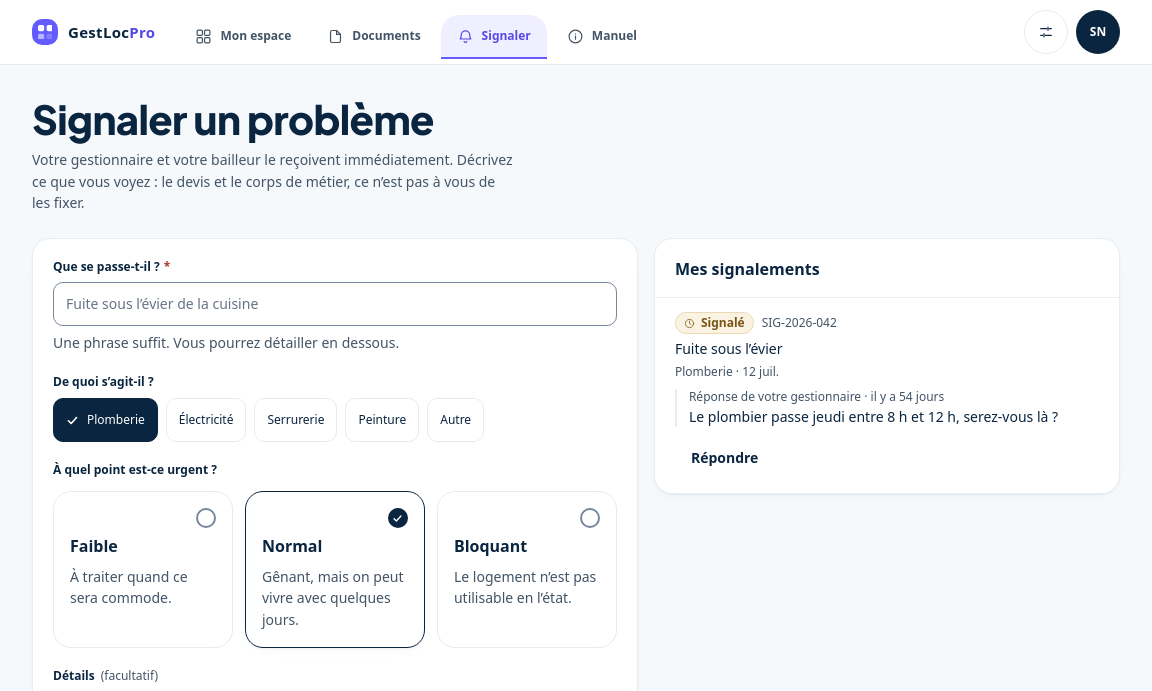
le locataire répond depuis son écran › relit sa propre phrase dans le fil, sans attendre un rechargement
Click the button "Répondre" at (725, 457), box [675, 435, 774, 479]
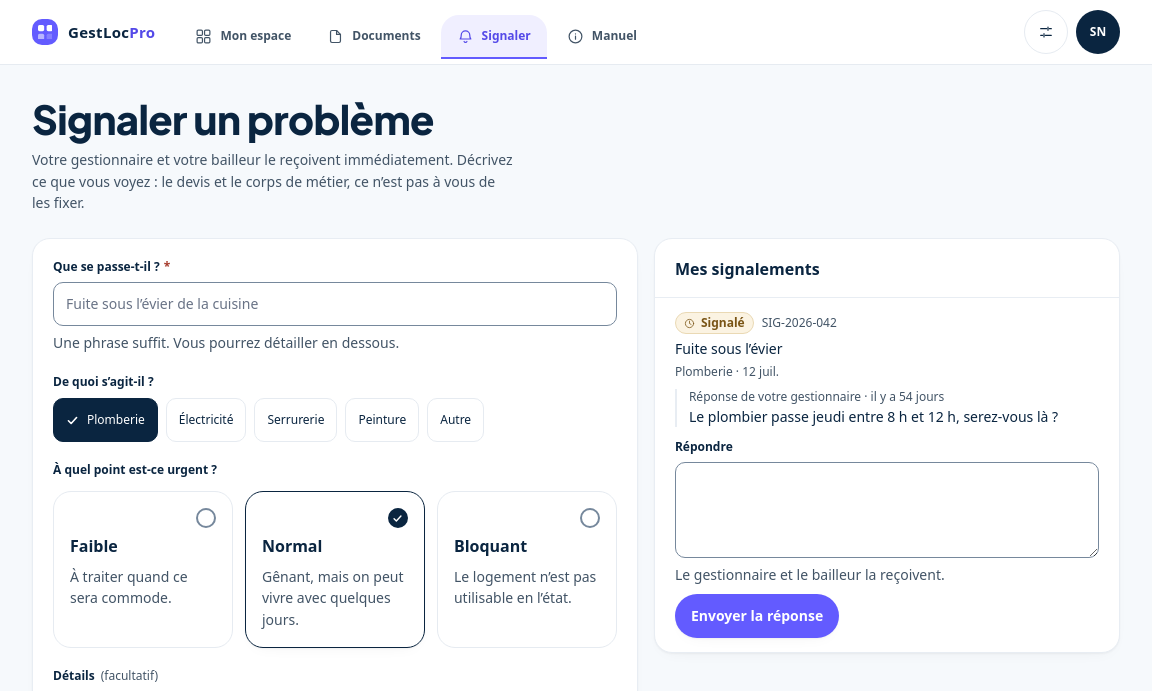
Type "Vendredi matin, sans faute." into the text box labelled "Répondre" at (887, 510), box [675, 462, 1099, 558]
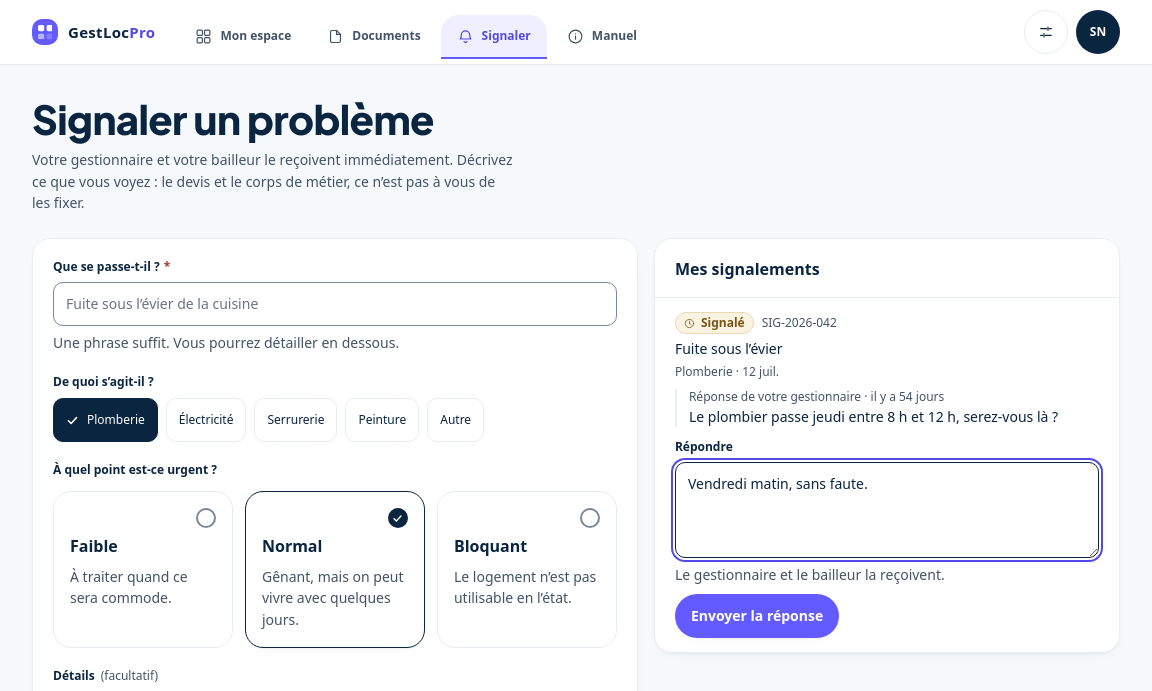
Click the button "Envoyer la réponse" at (757, 616), box [675, 594, 839, 638]
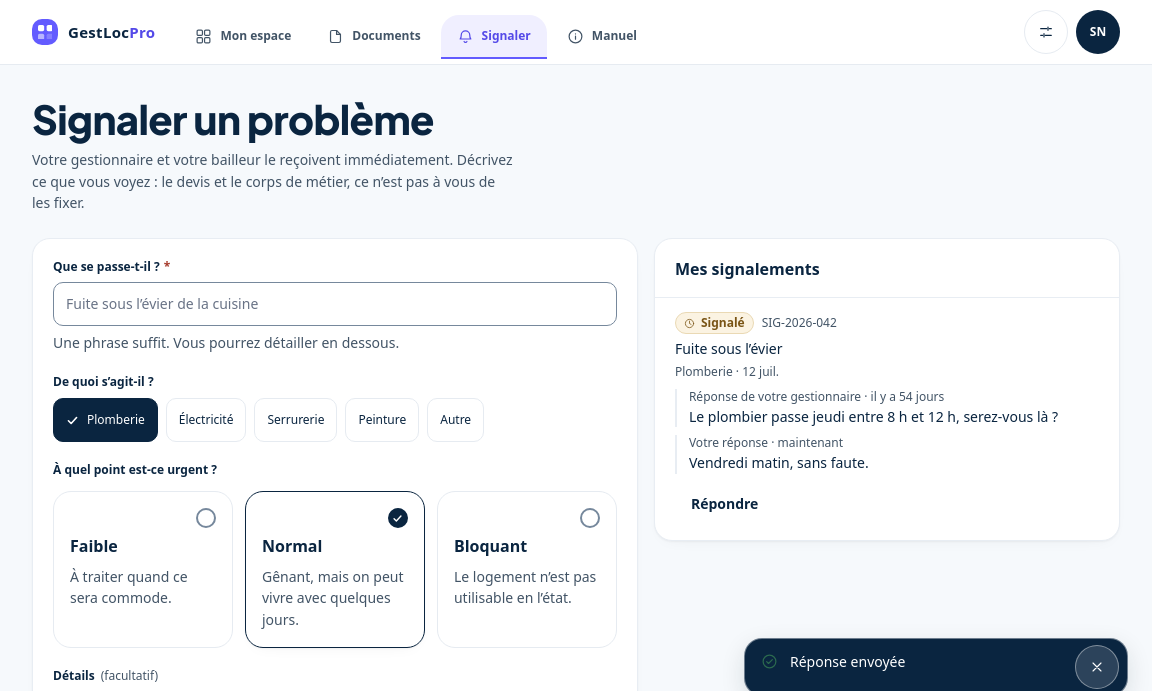
Check: the text "Vendredi matin, sans faute." is shown, box [689, 453, 869, 472]
